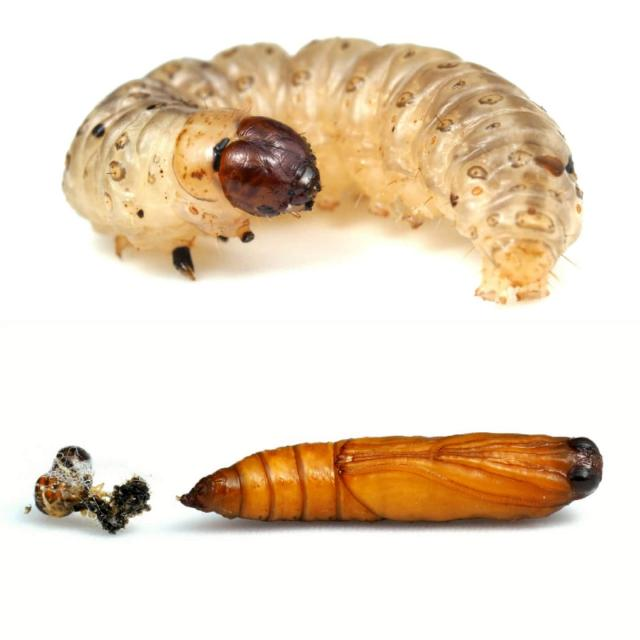cornborer-Larva-: (52, 35, 587, 307)
